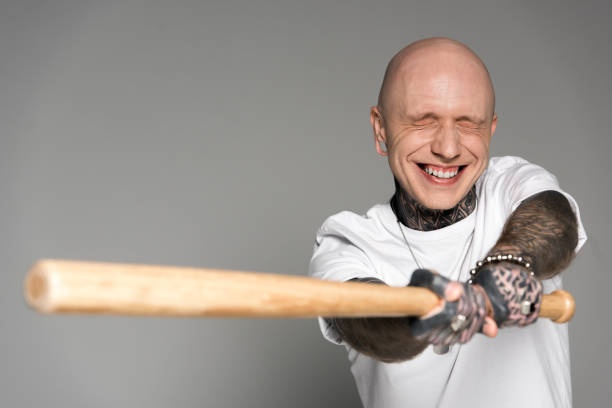bita: (27, 258, 582, 323)
